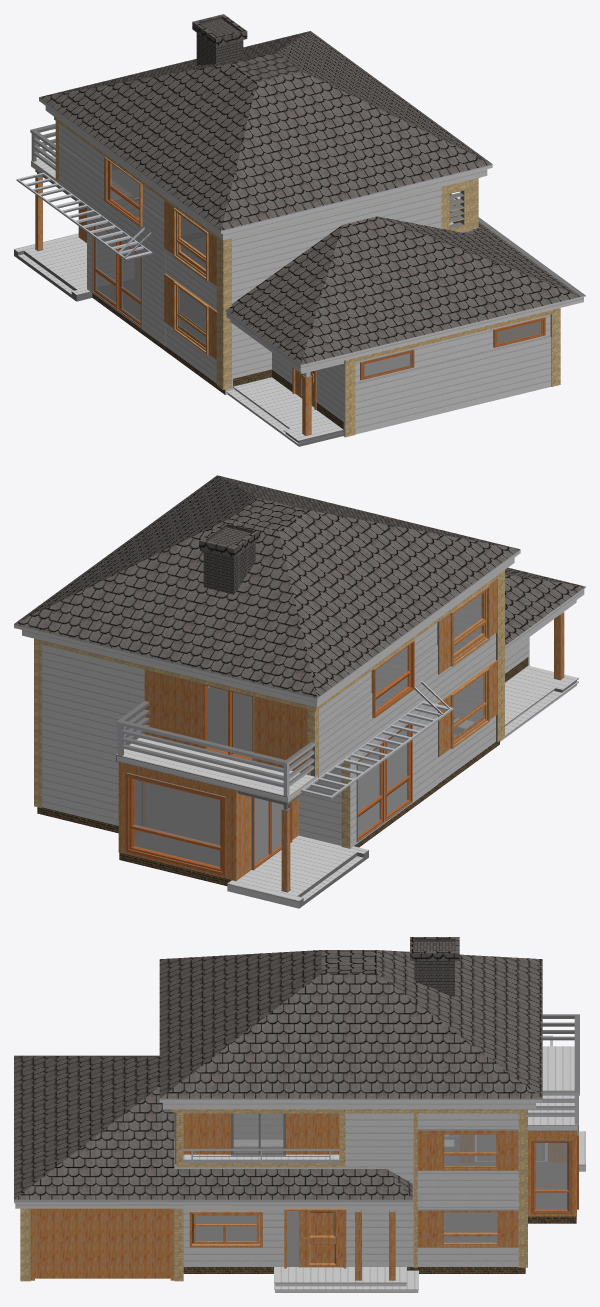
Rendered from casa1.glb.
The picture shows the model from 3 angles, top to bottom: view 1: azimuth 30°, elevation 25°; view 2: azimuth 150°, elevation 25°; view 3: azimuth 270°, elevation 25°; orthographic projection. The views are drawn at different scales.
Visible parts, largest first — view 1: root; view 2: root; view 3: root.
Boxes of the visible parts, x1,y1,x2,y2 form: root: [14, 14, 585, 446]; root: [14, 475, 585, 908]; root: [14, 937, 585, 1292].
Bounding box in the file's own units: 25.33 × 19.23 × 38.
12 materials, 10 textured.
